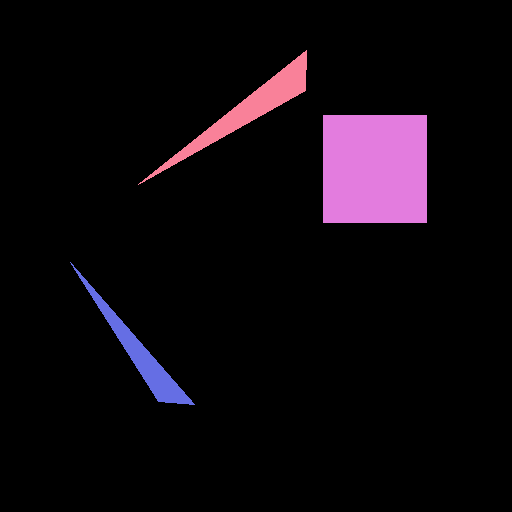square: (323, 115, 426, 222)
triangle: (138, 50, 306, 184), (70, 262, 194, 404)
